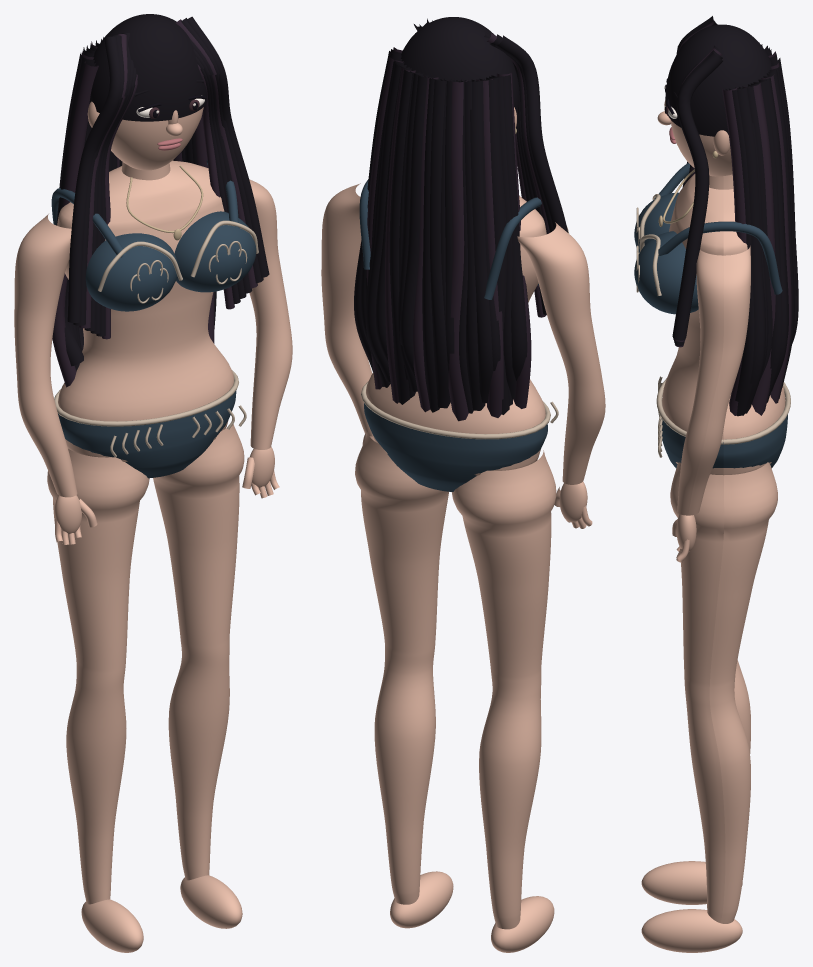
File: character.glb
The picture shows the model from 3 angles, left to right: view 1: azimuth 30°, elevation 25°; view 2: azimuth 150°, elevation 25°; view 3: azimuth 270°, elevation 25°; orthographic projection. The views are drawn at different scales.
Parts seen in each view (by area): view 1: Leg1, Leg-1, Torso, Arm-1, HairCap, Arm1, Brief, BodiceCup-1, BodiceCup1, FrontLock-16, Face, BackHair30 (+22 smaller); view 2: Leg-1, Leg1, Arm-1, Arm1, Brief, Torso, HairCap, BackHair17, BackHair23, BackHair20, BackHair14, BackHair11 (+29 smaller); view 3: Leg1, Arm1, Torso, HairCap, FrontLock16, Foot1, BackHair2, BodiceCup1, Brief, Foot-1, BackHair1, BackHair5 (+17 smaller).
Boxes of the visible parts, box(x1,y1,x2,y2) form: Leg1: box(153, 418, 244, 880); Leg-1: box(47, 448, 149, 904); Torso: box(57, 160, 233, 461); Arm-1: box(14, 214, 77, 497); HairCap: box(89, 14, 207, 121); Arm1: box(249, 179, 292, 449); Brief: box(58, 391, 236, 478); BodiceCup-1: box(85, 233, 177, 311); BodiceCup1: box(174, 211, 256, 292); FrontLock-16: box(67, 36, 121, 322); Face: box(111, 107, 203, 170); BackHair30: box(52, 61, 98, 387); Leg-1: box(451, 450, 556, 929); Leg1: box(355, 430, 448, 904); Arm-1: box(517, 222, 605, 484); Arm1: box(321, 183, 372, 436); Brief: box(364, 403, 547, 491); Torso: box(366, 196, 546, 475); HairCap: box(401, 17, 519, 110); BackHair17: box(430, 78, 451, 408); BackHair23: box(464, 79, 493, 403); BackHair20: box(448, 79, 468, 421); BackHair14: box(399, 75, 435, 378); BackHair11: box(389, 69, 420, 404); Leg1: box(670, 462, 777, 923); Arm1: box(677, 245, 750, 515); Torso: box(662, 174, 785, 475); HairCap: box(665, 24, 771, 136); FrontLock16: box(672, 52, 722, 339); Foot1: box(641, 909, 742, 952); BackHair2: box(728, 86, 765, 413); BodiceCup1: box(634, 231, 698, 314); Brief: box(659, 414, 787, 468); Foot-1: box(641, 861, 742, 904); BackHair1: box(725, 87, 754, 416); BackHair5: box(742, 83, 775, 415).
Bounding box in the file's own units: 0.5552 × 1.78 × 0.2956.
